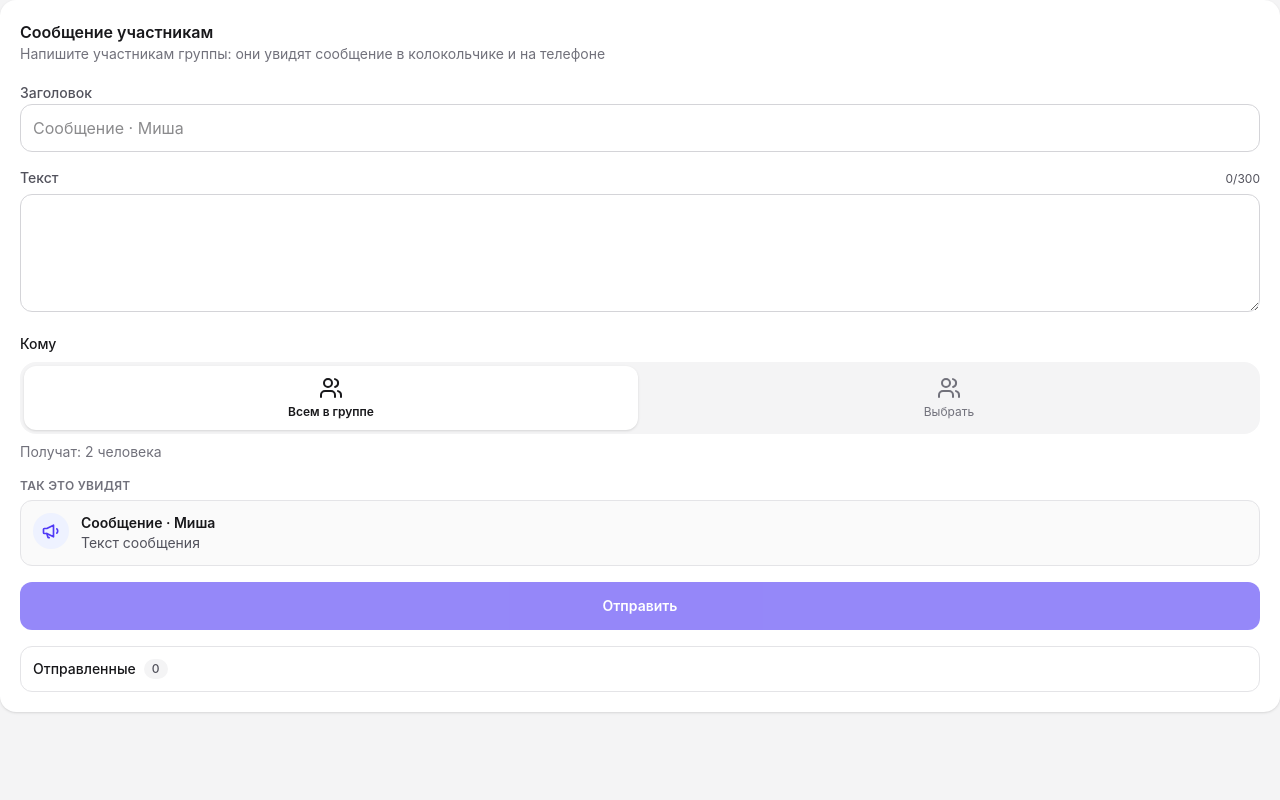
Test: карточка владельца › текст: счётчик, «Отправить» выключена, пока текста нет; предпросмотр с заголовком по умолчанию
The width and height of the screenshot is (1280, 800).
Check: the button "Отправить" is disabled, box top-left (20, 582), bottom-right (1260, 630)
Check: the text "0/300" is shown, box top-left (1226, 171), bottom-right (1260, 187)
Type "Завтра обновление" into the text box labelled "Текст".
click(640, 253); type("Завтра обновление")  # box top-left (20, 194), bottom-right (1260, 312)
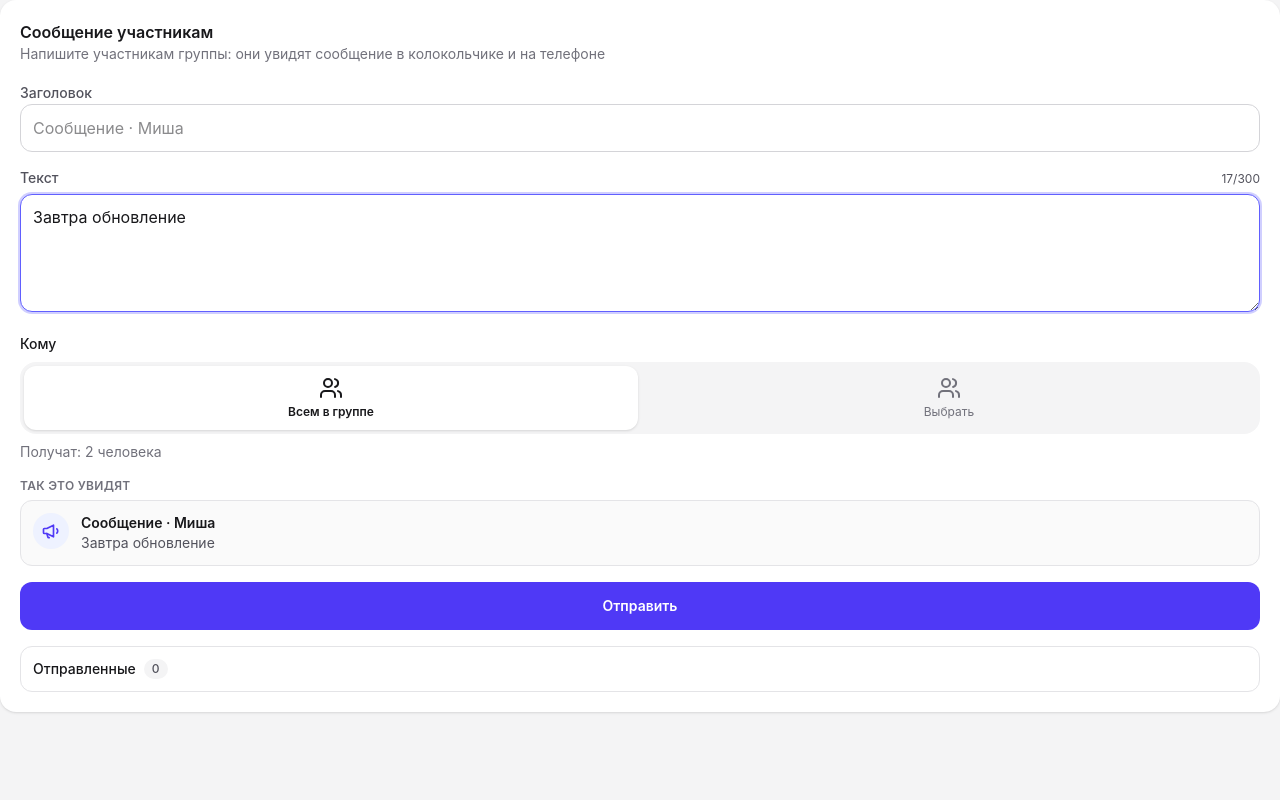
Check: the text "17/300" is shown, box top-left (1221, 171), bottom-right (1260, 187)
Check: the button "Отправить" is enabled, box top-left (20, 582), bottom-right (1260, 630)
Check: the text "Завтра обновление" is shown, box top-left (81, 533), bottom-right (215, 553)
Type "Важно" into the field labelled "Заголовок".
click(640, 128); type("Важно")  # box top-left (20, 104), bottom-right (1260, 152)
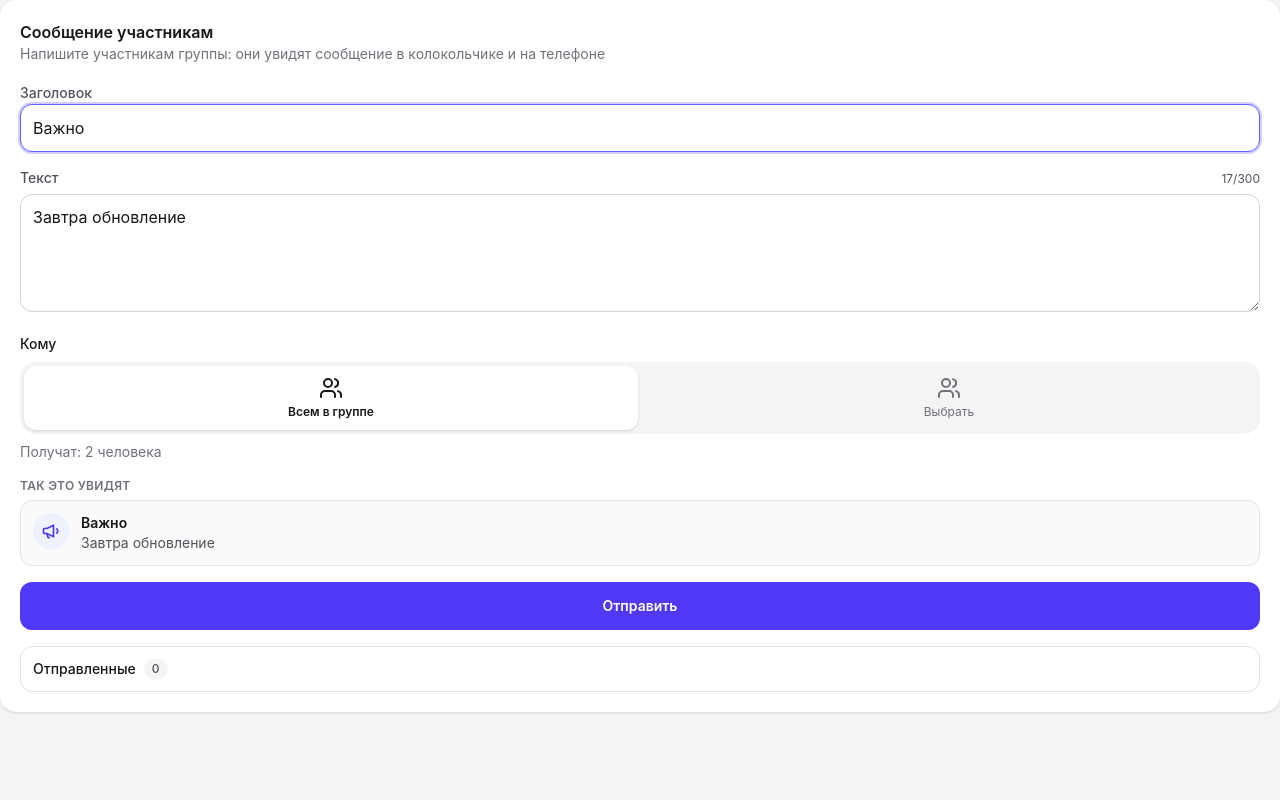
Check: the text "Важно" is shown, box top-left (81, 514), bottom-right (127, 531)
